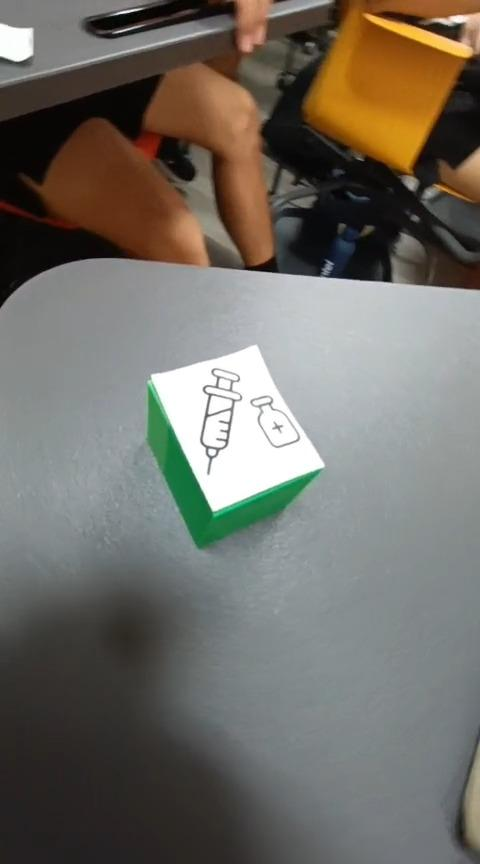antiseptic cream: (144, 343, 327, 551)
